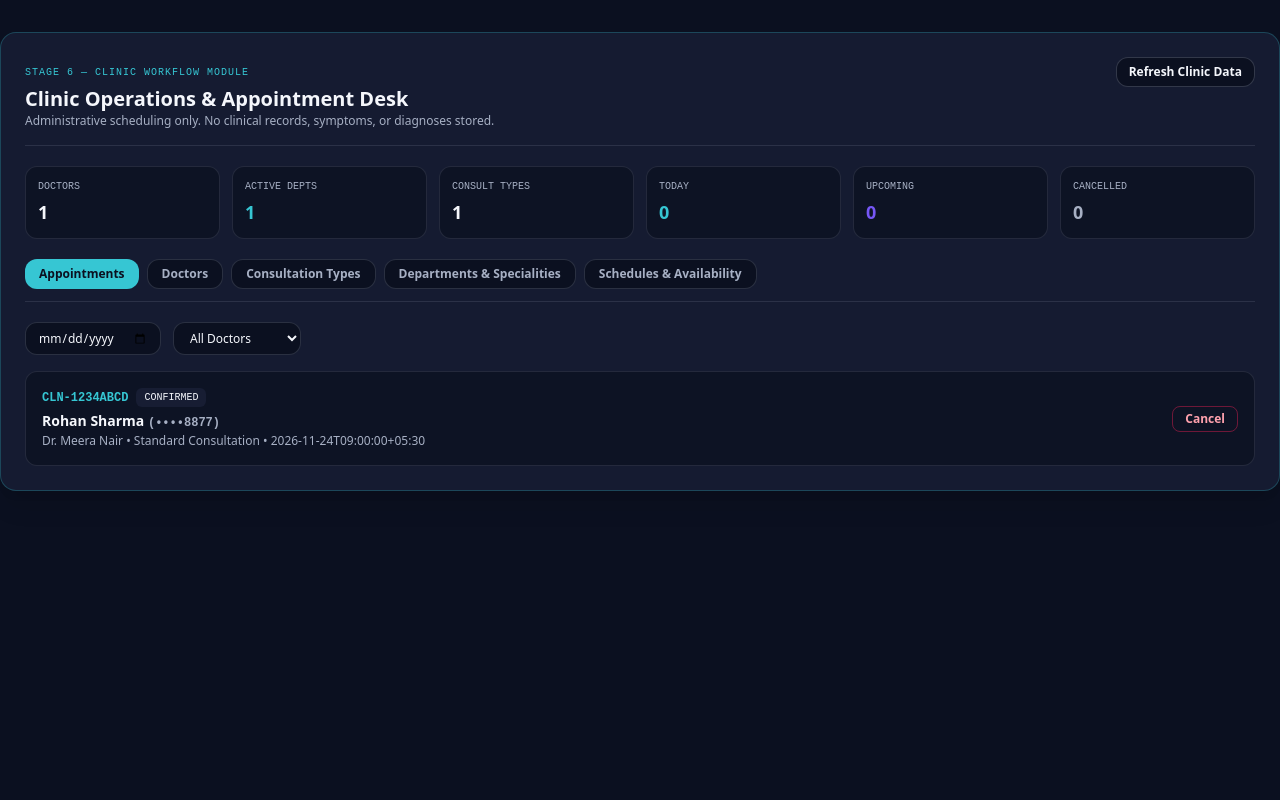
Test case: Stage 6 — ClinicDashboardView › navigates across Doctors, Consultation Types, and Schedules & Availability tabs
This screenshot has width=1280, height=800.
Check: the text "CLN-1234ABCD" is shown, box [42,390,128,406]
Click the button "Doctors" at (185, 274), box [147,259,223,289]
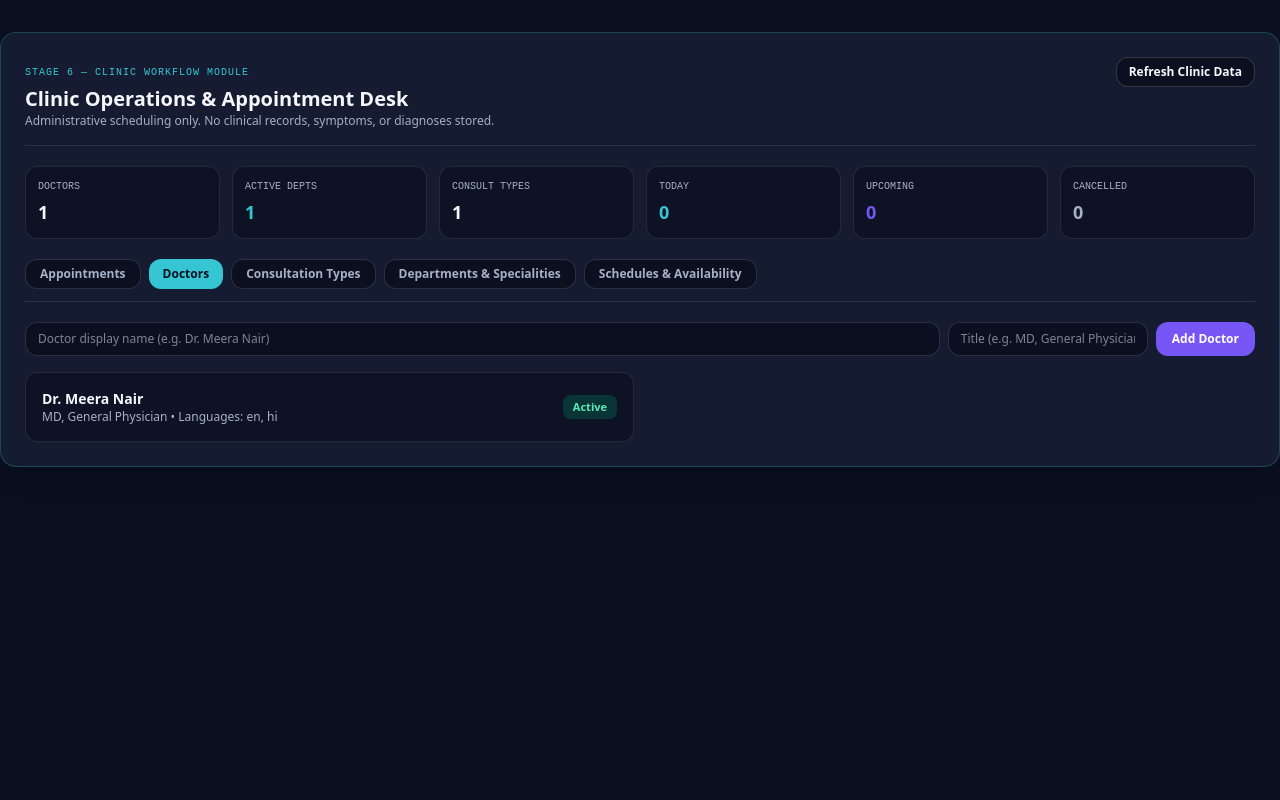
Check: the text "Dr. Meera Nair" is shown, box [42,389,143,408]
Click the button "Consultation Types" at (303, 274), box [231,259,376,289]
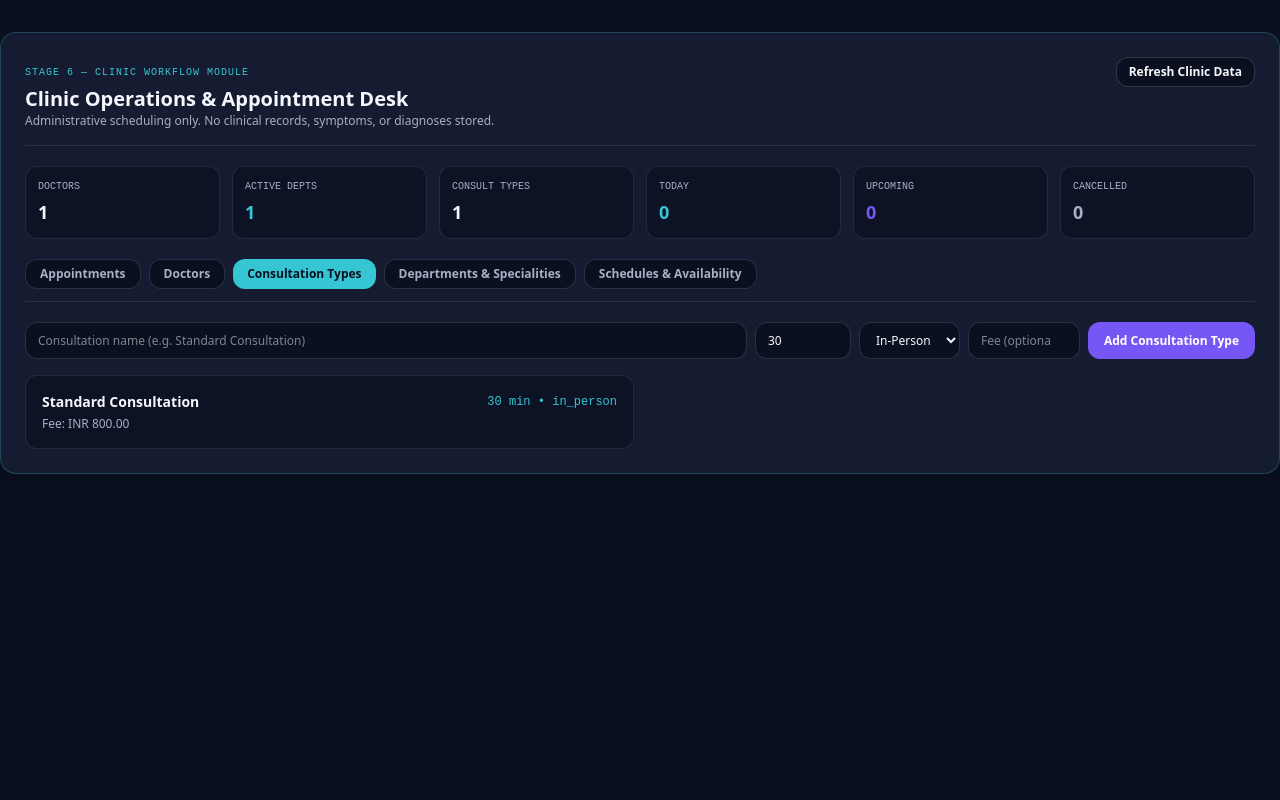
Check: the text "Standard Consultation" is shown, box [42,392,199,412]
Click the button "Schedules & Availability" at (670, 274), box [584,259,756,289]
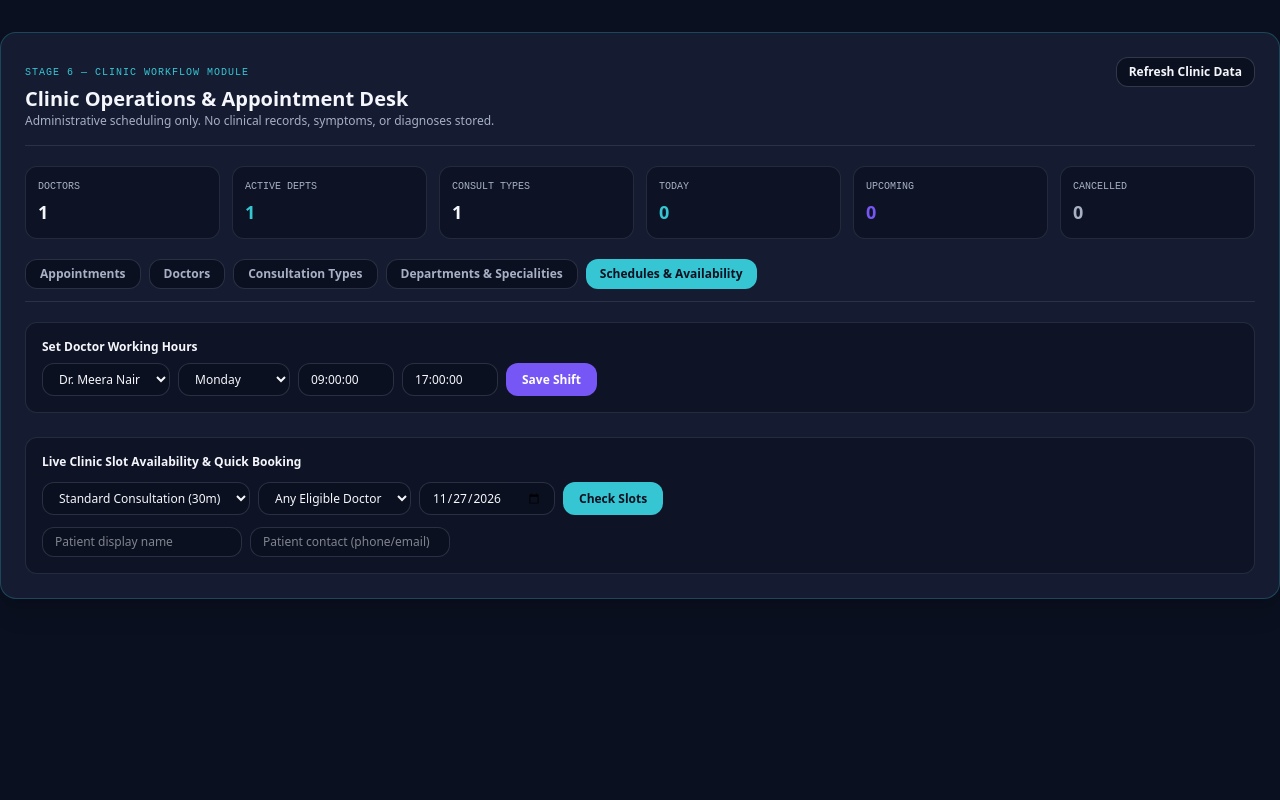
Click the button "Check Slots" at (613, 498), box [563,482,663,515]
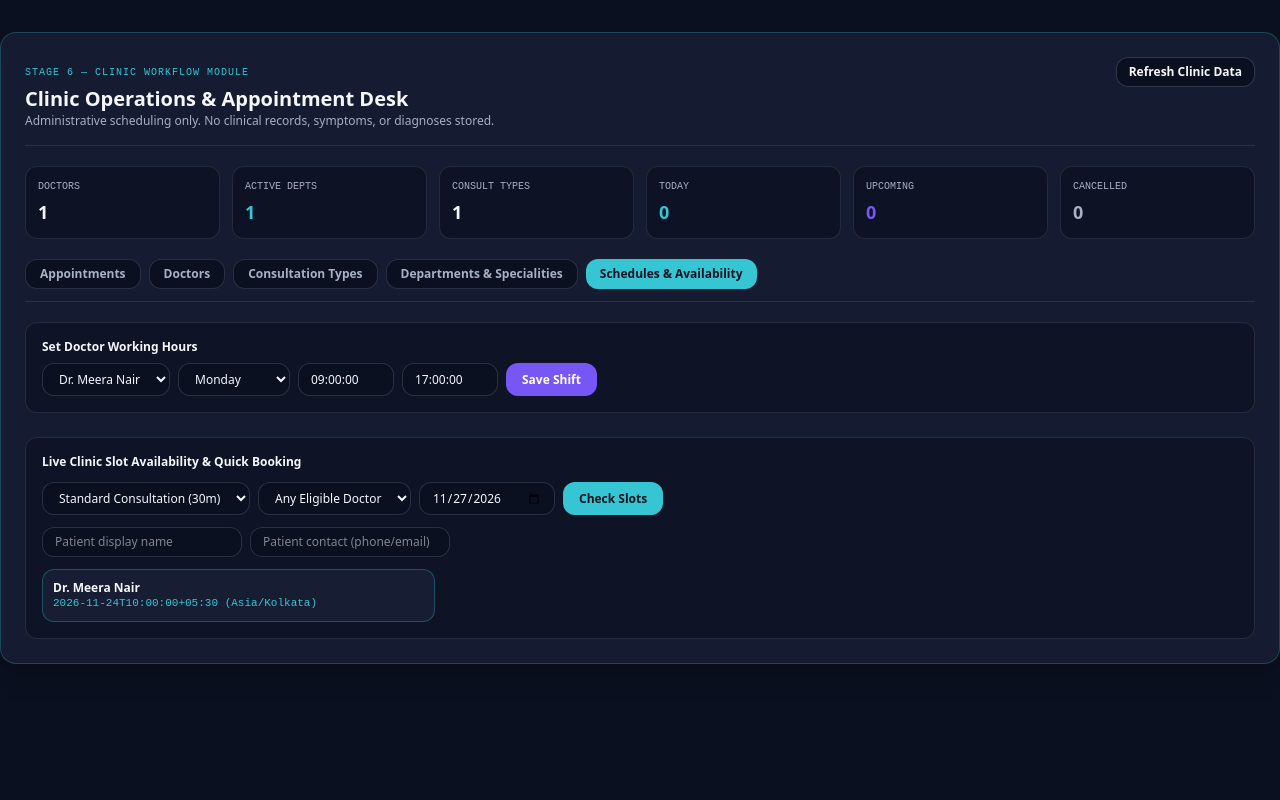
Check: the text "2026-11-24T10:00:00+05:30 (Asia/Kolkata)" is shown, box [53,597,317,609]
